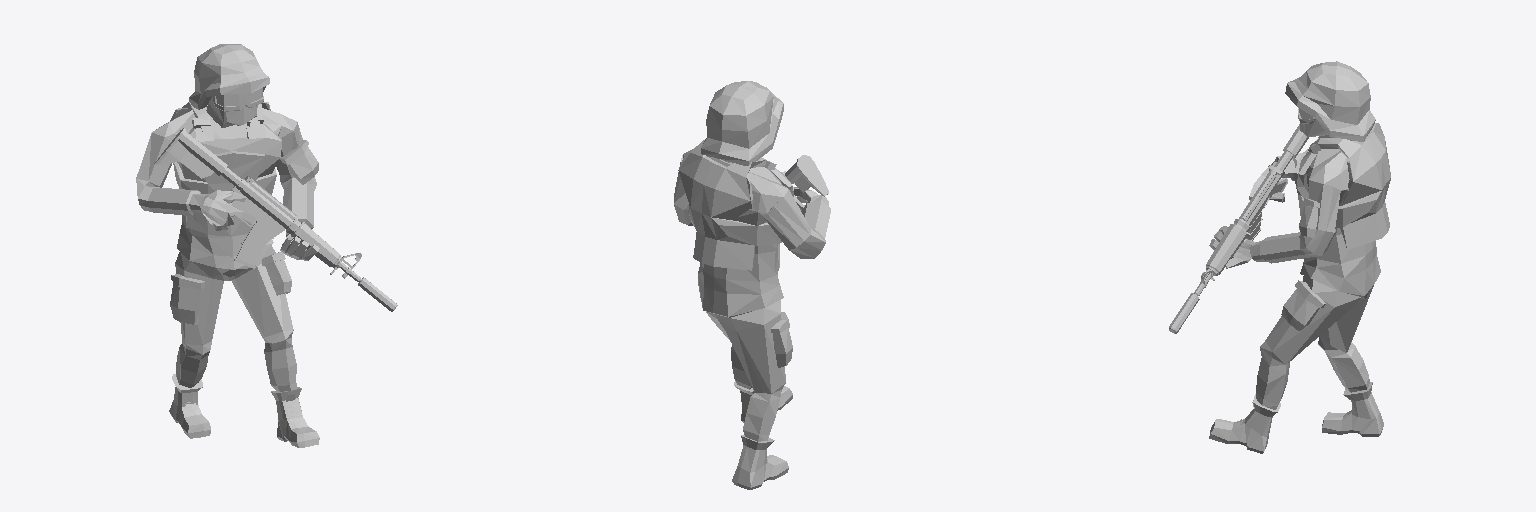
Rendered from soldier2.obj.
The picture shows the model from 3 angles: view 1: azimuth 30°, elevation 25°; view 2: azimuth 150°, elevation 25°; view 3: azimuth 270°, elevation 25°; orthographic projection.
Parts seen in each view (by area): view 1: Soldat_Cylinder.001, M4_Cube.001, M4_Amo_Cube.007; view 2: Soldat_Cylinder.001, M4_Cube.001; view 3: Soldat_Cylinder.001, M4_Cube.001.
Boxes of the visible parts, box(x1,y1,x2,y2) form: Soldat_Cylinder.001: box(136, 44, 319, 447); M4_Cube.001: box(154, 128, 397, 311); M4_Amo_Cube.007: box(234, 227, 271, 268); Soldat_Cylinder.001: box(674, 81, 830, 489); M4_Cube.001: box(782, 155, 828, 210); Soldat_Cylinder.001: box(1209, 61, 1390, 453); M4_Cube.001: box(1169, 124, 1308, 333).
Bounding box in the file's own units: 15.36 × 31.65 × 16.81.